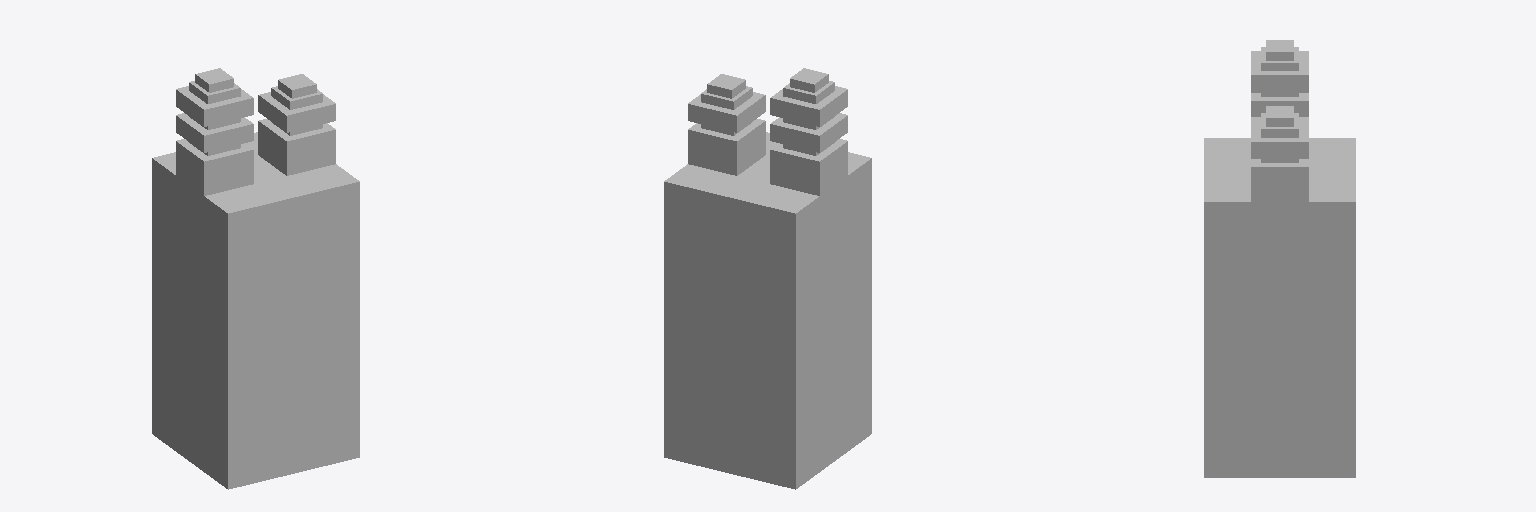
The model's file is transformer_hv_right.obj.
3 views of the same model, side by side, from view 1: azimuth 30°, elevation 25°; view 2: azimuth 150°, elevation 25°; view 3: azimuth 270°, elevation 25° (orthographic).
Parts seen in each view (by area): view 1: block; view 2: block; view 3: block.
Part boxes in pixels (x1,y1,x2,y2): block: (152,68,359,489); block: (664,68,871,489); block: (1204,40,1355,477).
Bounding box in the file's own units: 1 × 2.75 × 1.